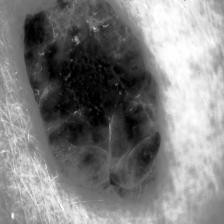Benign Marking or Mole: (23, 0, 162, 204)
